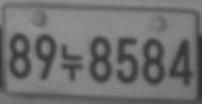4: (169, 38, 195, 87)
5: (116, 36, 138, 83)
8: (141, 37, 166, 85), (88, 36, 113, 83), (8, 32, 31, 78)
9: (35, 33, 57, 80)
누: (60, 42, 84, 83)
